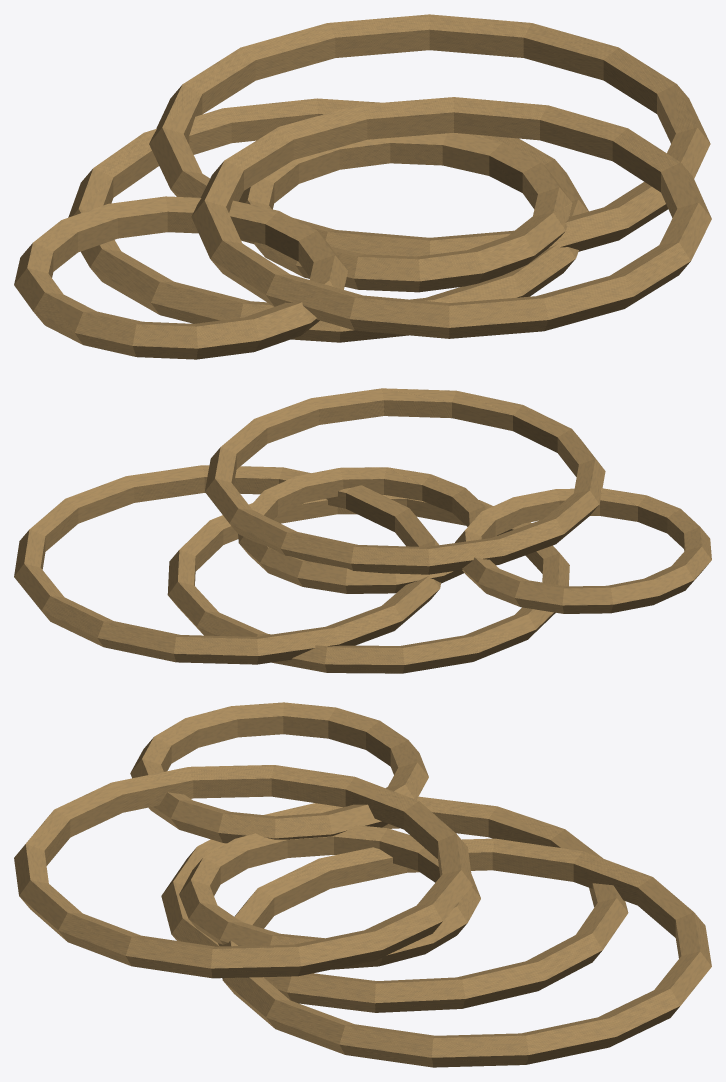
The model's file is en-004_rope_debris_set__medium.obj.
The picture shows the model from 3 angles, top to bottom: view 1: azimuth 30°, elevation 25°; view 2: azimuth 150°, elevation 25°; view 3: azimuth 270°, elevation 25°; orthographic projection. The views are drawn at different scales.
Visible parts, largest first — view 1: en-004_rope_debris_set__medium; view 2: en-004_rope_debris_set__medium; view 3: en-004_rope_debris_set__medium.
Part boxes in pixels (<box>): en-004_rope_debris_set__medium: <box>14,14,711,359</box>; en-004_rope_debris_set__medium: <box>14,388,711,673</box>; en-004_rope_debris_set__medium: <box>14,702,711,1067</box>.
Bounding box in the file's own units: 1.11 × 0.1276 × 1.02.
Materials: 1 (1 with a texture image).
